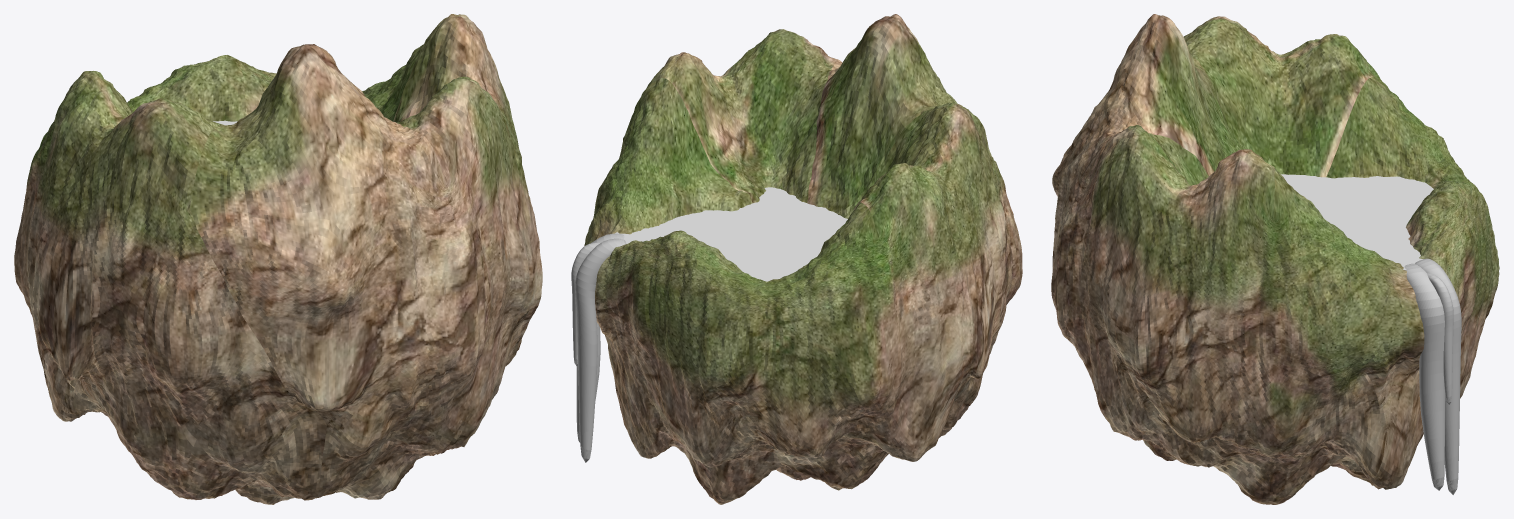
File: island-3.fbx
3 views of the same model, side by side, from view 1: azimuth 30°, elevation 25°; view 2: azimuth 150°, elevation 25°; view 3: azimuth 270°, elevation 25° (orthographic). The views are drawn at different scales.
Parts seen in each view (by area): view 1: land; view 2: land, water, Cylinder.002, Cylinder, Cylinder.001; view 3: land, water, Cylinder.001, Cylinder.002, Cylinder.
Part boxes in pixels (box(x1,y1,x2,y2)): land: box(14, 14, 542, 504); land: box(584, 14, 1022, 504); water: box(615, 187, 847, 281); Cylinder.002: box(575, 238, 626, 462); Cylinder: box(571, 242, 600, 365); Cylinder.001: box(576, 233, 624, 442); land: box(1051, 14, 1499, 504); water: box(1281, 174, 1433, 269); Cylinder.001: box(1404, 263, 1445, 490); Cylinder.002: box(1415, 258, 1461, 494); Cylinder: box(1427, 273, 1453, 404).
Size of the model in its own units: 191 by 210 by 195.
